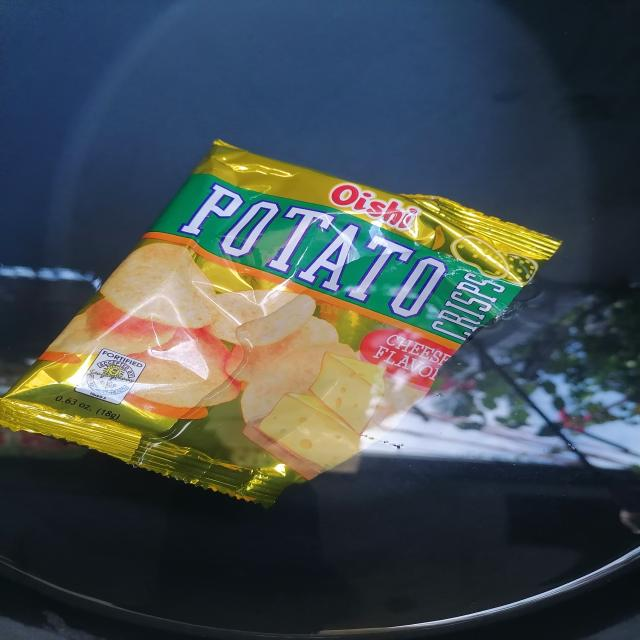Plastic Wrapper: (0, 140, 560, 508)
